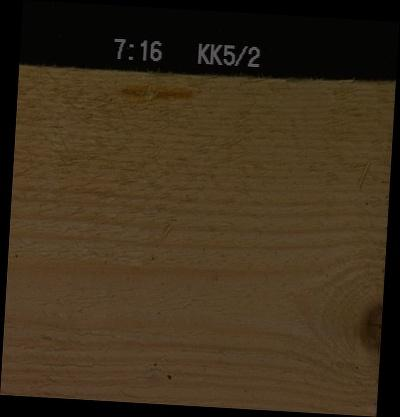sound_knot: (358, 298, 381, 355)
